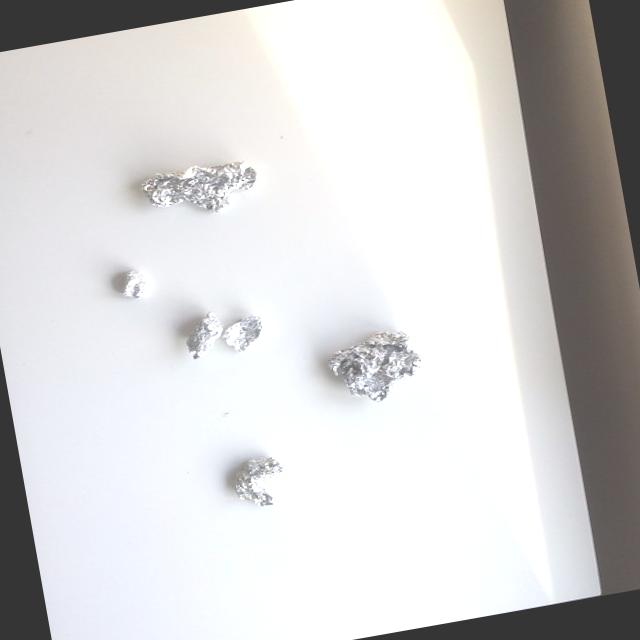Trash: (122, 141, 282, 236), (326, 322, 421, 402), (223, 447, 298, 518), (178, 304, 270, 361), (118, 256, 166, 304)
